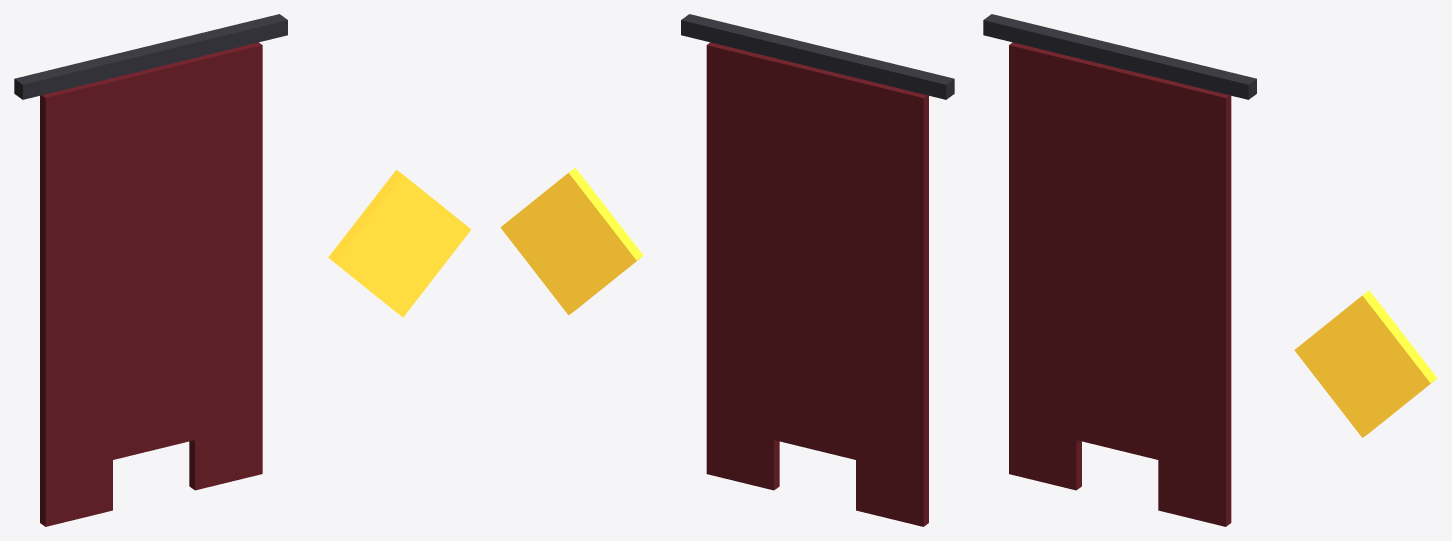
Rendered from banner.glb.
3 views of the same model, side by side, from view 1: azimuth 30°, elevation 25°; view 2: azimuth 150°, elevation 25°; view 3: azimuth 330°, elevation 25° (orthographic).
Parts seen in each view (by area): view 1: cloth, emblem, rod, tail.001, tail; view 2: cloth, emblem, rod, tail.001, tail; view 3: cloth, emblem, rod, tail.001, tail.
Boxes of the visible parts, x1,y1,x2,y2 form: cloth: [40, 42, 262, 476]; emblem: [328, 170, 471, 317]; rod: [14, 14, 287, 99]; tail.001: [189, 423, 262, 490]; tail: [40, 460, 112, 526]; cloth: [706, 42, 928, 476]; emblem: [500, 168, 643, 315]; rod: [681, 14, 954, 99]; tail.001: [706, 423, 779, 490]; tail: [856, 460, 928, 526]; cloth: [1009, 42, 1231, 476]; emblem: [1294, 290, 1437, 437]; rod: [983, 14, 1256, 99]; tail.001: [1158, 460, 1231, 526]; tail: [1009, 423, 1081, 490].
Bounding box in the file's own units: 1.86 × 1.78 × 0.065.
